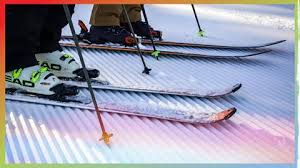skis: (1, 72, 242, 126), (52, 27, 286, 60)
